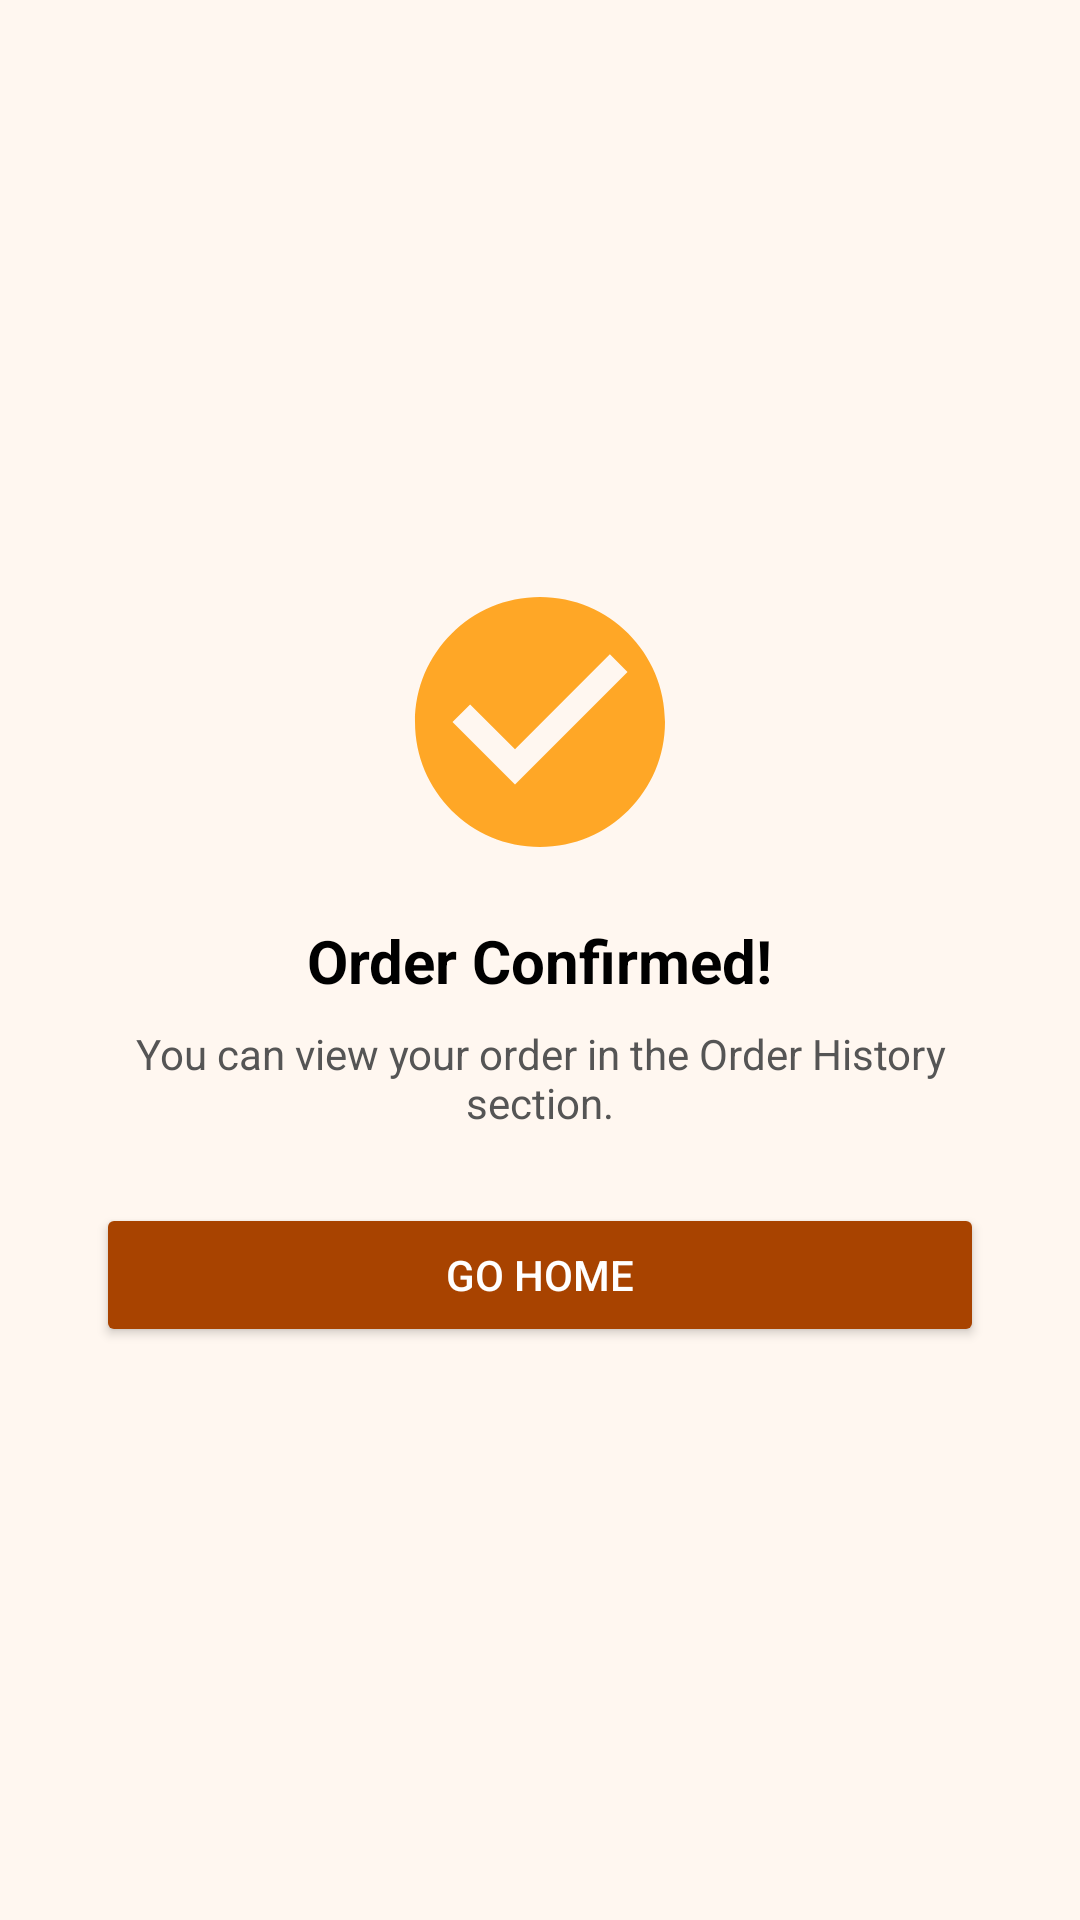

Where icons sit on this 1080px×1920px app screen, as (x1, y1, x2, y2):
check circle: (415, 597, 665, 847)
